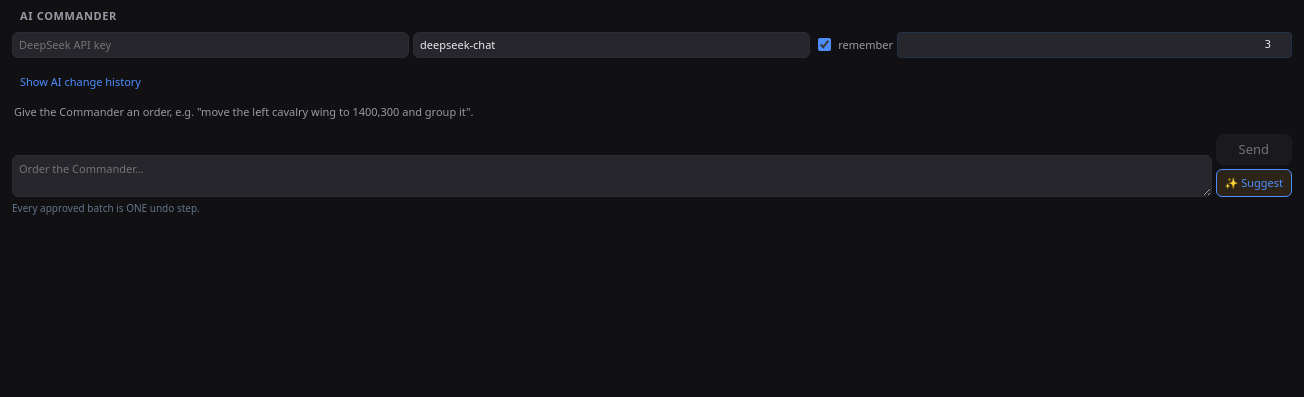
Scenario: AiCommanderPanel › send → proposal card → approve applies ONE undoable AI change
The width and height of the screenshot is (1304, 397).
In the text box with test id "ai-prompt-input": (612, 176) [12,155,1212,197], type "mark a rally point"
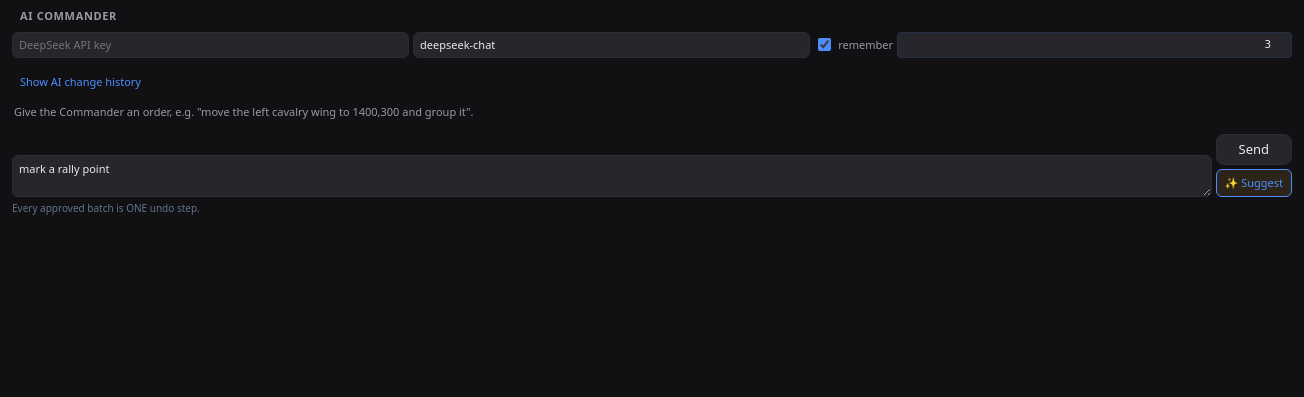
Click the button with test id "ai-send": (1254, 149) [1216,134,1292,165]
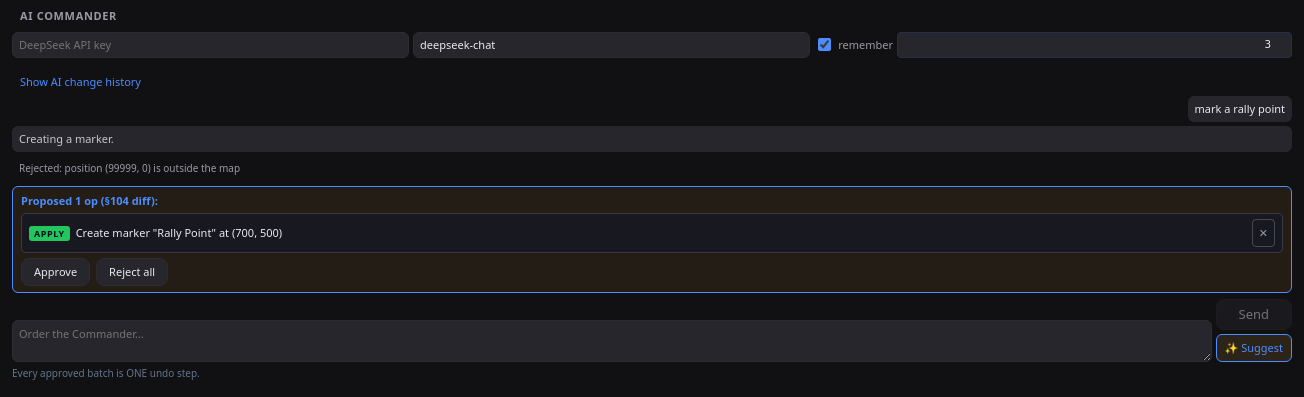
Result: the element with test id "ai-proposal" is shown at [12,186,1292,293]
Result: the element with test id "ai-proposal" shows "Create marker \"Rally Point\" at (700, 500)" at [76,225,282,240]
Result: the element with test id "ai-thread" shows "Rejected" at [19,161,240,175]
Click the button with test id "ai-approve": (56, 272) [21,258,90,286]
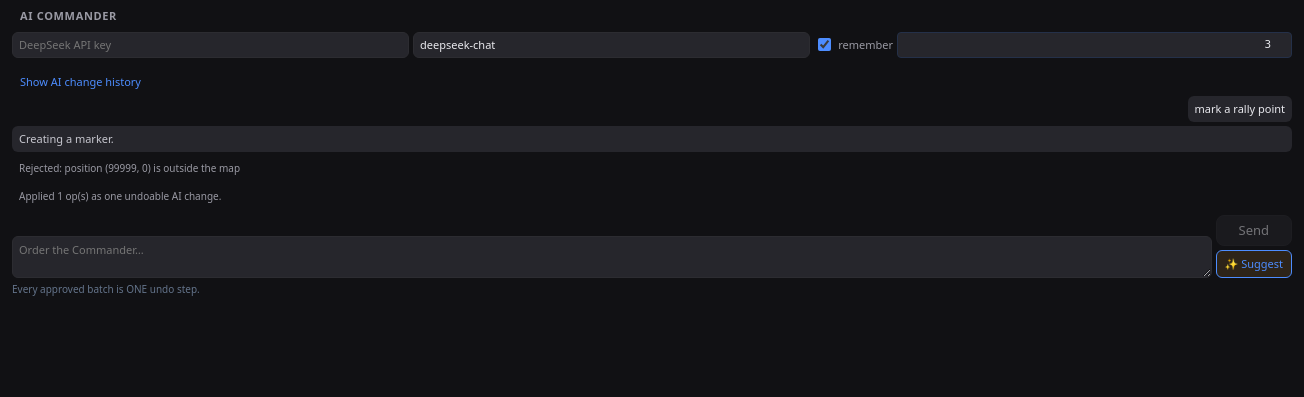
Result: the element with test id "ai-thread" shows "Applied 1 op(s)" at [19,189,221,203]
Result: the element with test id "ai-proposal" is gone
